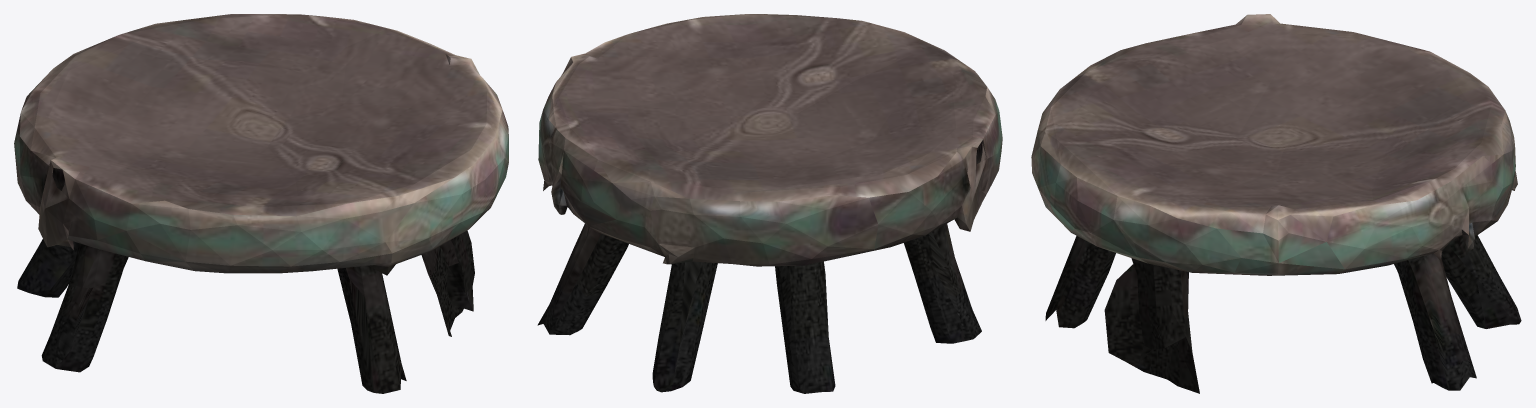
File: council_stool.glb
3 views of the same model, side by side, from view 1: azimuth 30°, elevation 25°; view 2: azimuth 150°, elevation 25°; view 3: azimuth 270°, elevation 25° (orthographic). The views are drawn at different scales.
Parts seen in each view (by area): view 1: geometry_0; view 2: geometry_0; view 3: geometry_0.
Boxes of the visible parts, x1,y1,x2,y2 form: geometry_0: (14,14,508,393); geometry_0: (537,14,1002,393); geometry_0: (1031,14,1521,393).
Bounding box in the file's own units: 0.9414 × 0.4498 × 0.9426.
Materials: 1 (1 with a texture image).
